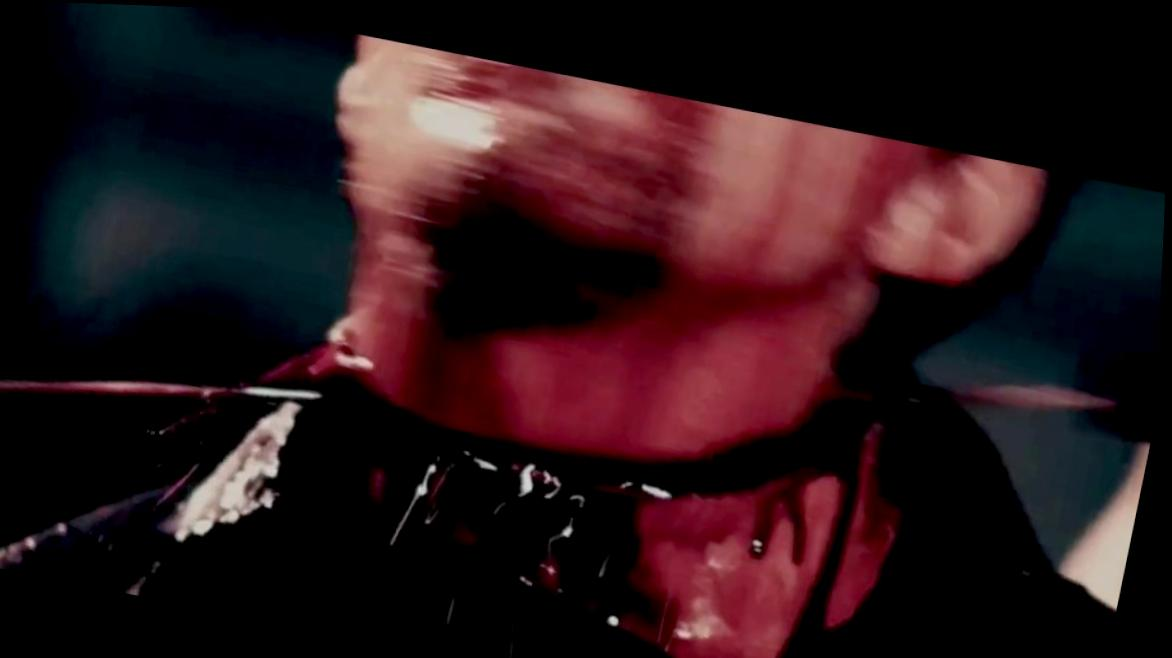Fire: (151, 308, 918, 658)
